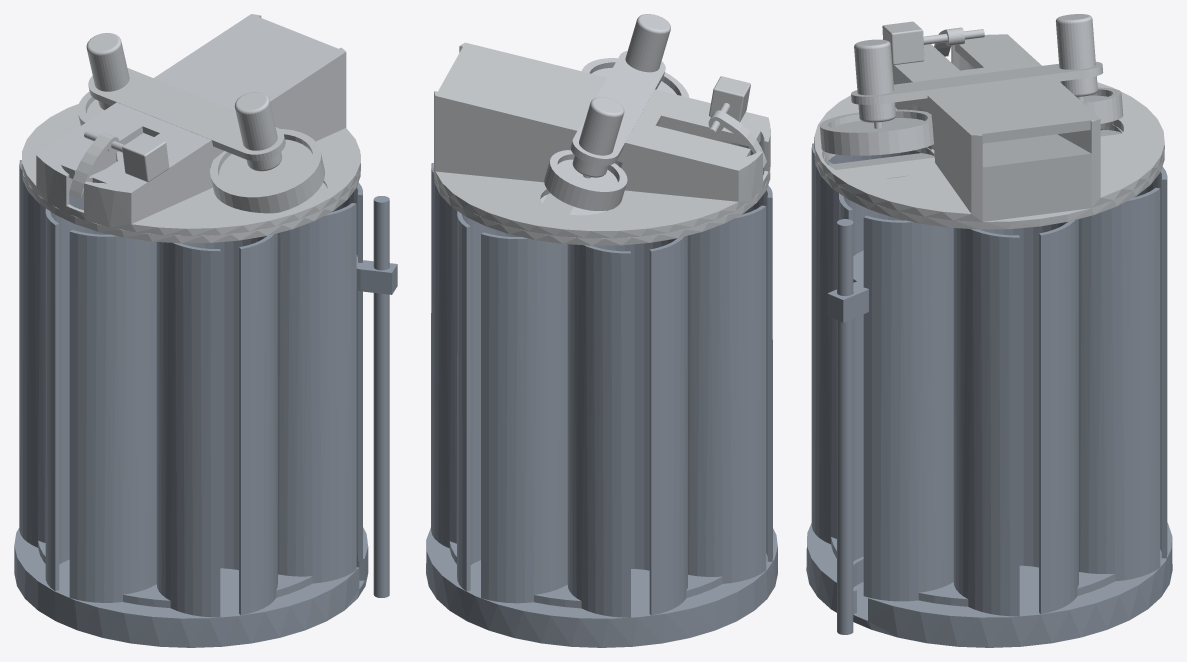
File: glee-mechanism.glb
3 renders of one model, left to right at view 1: azimuth 30°, elevation 25°; view 2: azimuth 150°, elevation 25°; view 3: azimuth 270°, elevation 25°, orthographic. The views are drawn at different scales.
Parts seen in each view (by area): view 1: motor_0, upper_1, motor_1, motor_2, upper_2, upper_6, upper_0, upper_3, upper_5, upper_10, motor_3, upper_7; view 2: motor_0, upper_1, motor_1, upper_6, upper_0, upper_4, upper_5, upper_3, upper_10, upper_2, upper_7; view 3: motor_0, upper_1, motor_1, upper_0, motor_2, upper_2, upper_6, upper_3, upper_5, motor_3, upper_10, upper_4.
Boxes of the visible parts, left/top/right/bottom form: motor_0: left=19, top=160, right=362, bottom=617; upper_1: left=21, top=14, right=360, bottom=236; motor_1: left=14, top=527, right=368, bottom=647; motor_2: left=373, top=196, right=389, bottom=597; upper_2: left=210, top=129, right=324, bottom=213; upper_6: left=88, top=68, right=285, bottom=160; upper_0: left=21, top=162, right=360, bottom=243; upper_3: left=234, top=92, right=281, bottom=171; upper_5: left=86, top=33, right=129, bottom=110; upper_10: left=122, top=133, right=169, bottom=181; motor_3: left=356, top=255, right=397, bottom=294; upper_7: left=69, top=132, right=119, bottom=198; motor_0: left=431, top=163, right=772, bottom=617; upper_1: left=434, top=42, right=770, bottom=238; motor_1: left=426, top=527, right=777, bottom=647; upper_6: left=570, top=51, right=665, bottom=165; upper_0: left=433, top=162, right=770, bottom=245; upper_4: left=544, top=150, right=627, bottom=210; upper_5: left=572, top=97, right=624, bottom=178; upper_3: left=625, top=14, right=670, bottom=72; upper_10: left=709, top=76, right=750, bottom=122; upper_2: left=581, top=58, right=689, bottom=97; upper_7: left=708, top=110, right=766, bottom=167; motor_0: left=811, top=129, right=1167, bottom=616; upper_1: left=814, top=34, right=1164, bottom=221; motor_1: left=806, top=522, right=1172, bottom=647; upper_0: left=814, top=122, right=1164, bottom=229; motor_2: left=837, top=219, right=853, bottom=634; upper_2: left=819, top=109, right=933, bottom=155; upper_6: left=851, top=61, right=1103, bottom=104; upper_3: left=854, top=39, right=895, bottom=128; upper_5: left=1055, top=14, right=1097, bottom=101; motor_3: left=827, top=250, right=868, bottom=322; upper_10: left=882, top=21, right=924, bottom=64; upper_4: left=1082, top=87, right=1123, bottom=123.
Size of the model in its own units: 219 by 352 by 219.
